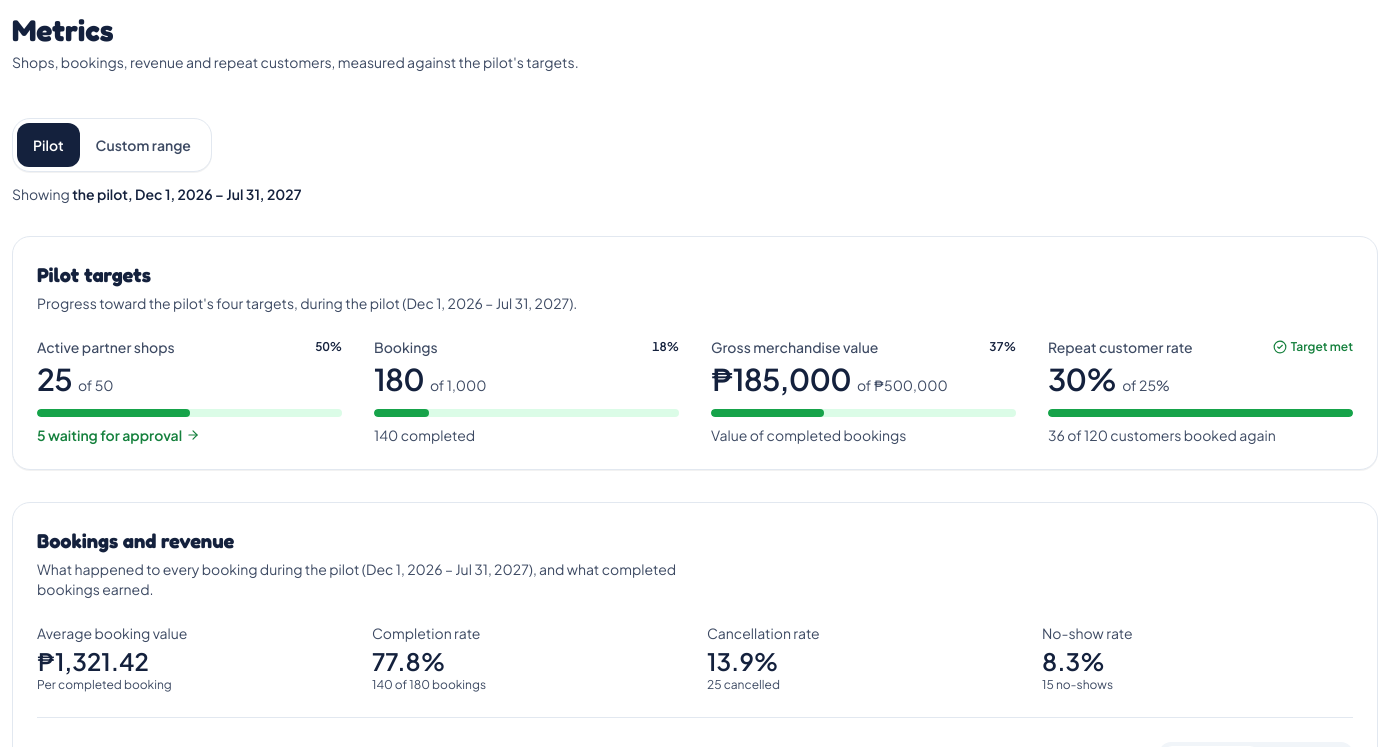
Analytics UI Components › MetricsDashboard › applies a custom date range through the URL
Later steps or results of the test are not shown.
Click the button "Custom range".
click(143, 145)  # box x1=80 y1=123 x2=207 y2=167
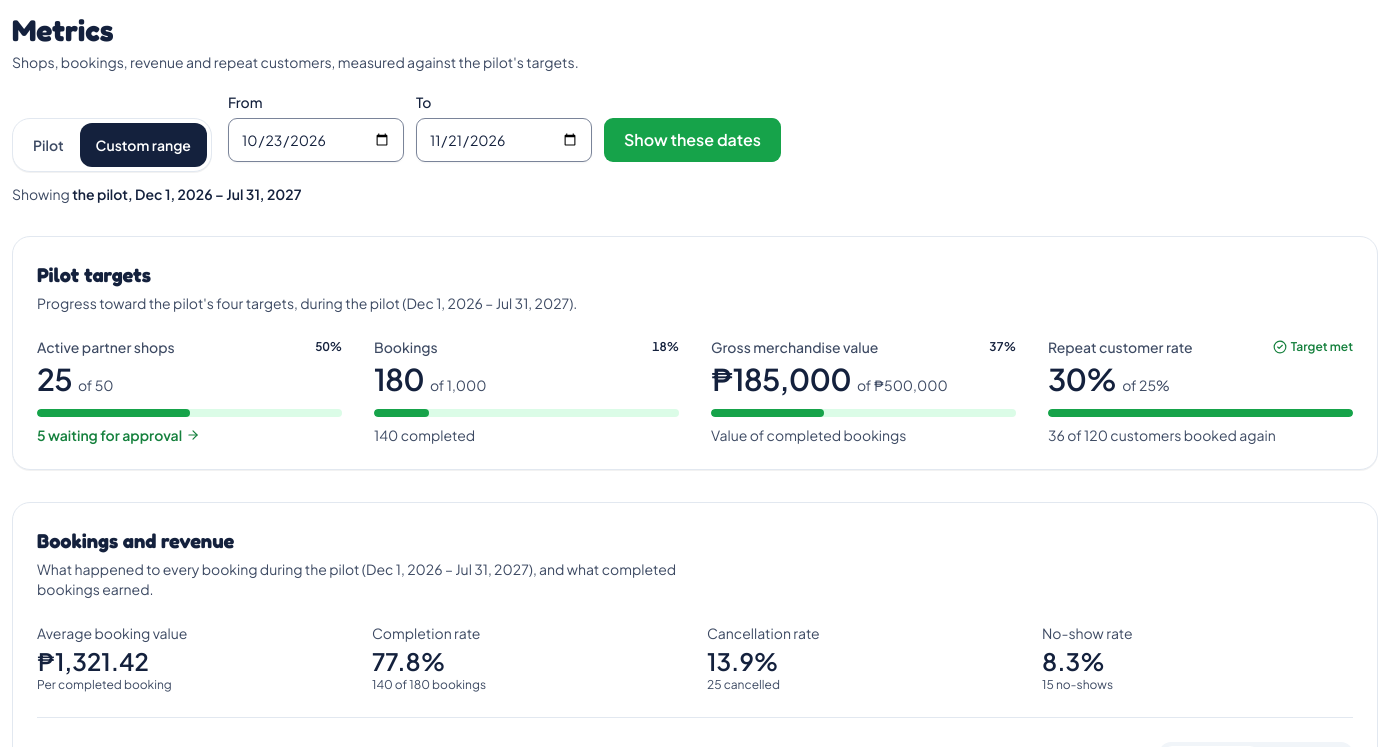
Expected: the date field labelled "From" holds "2026-10-23", x1=228 y1=118 x2=404 y2=162
Expected: the date field labelled "To" holds "2026-11-21", x1=416 y1=118 x2=592 y2=162
